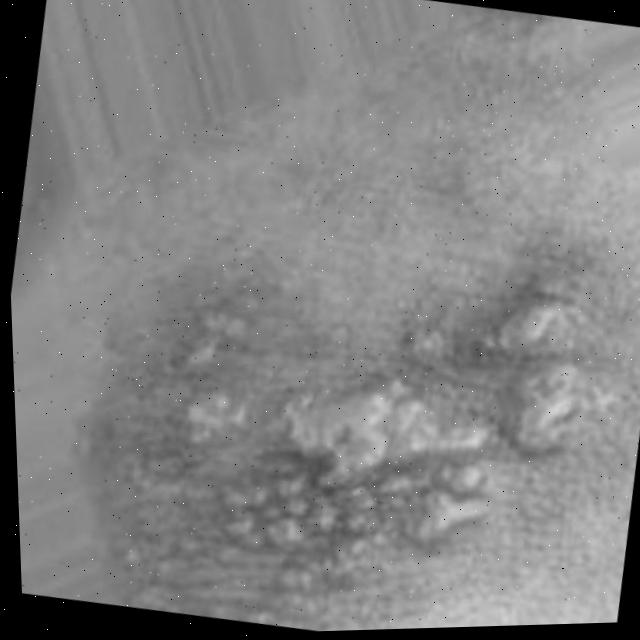Shingles: (109, 208, 634, 637)
